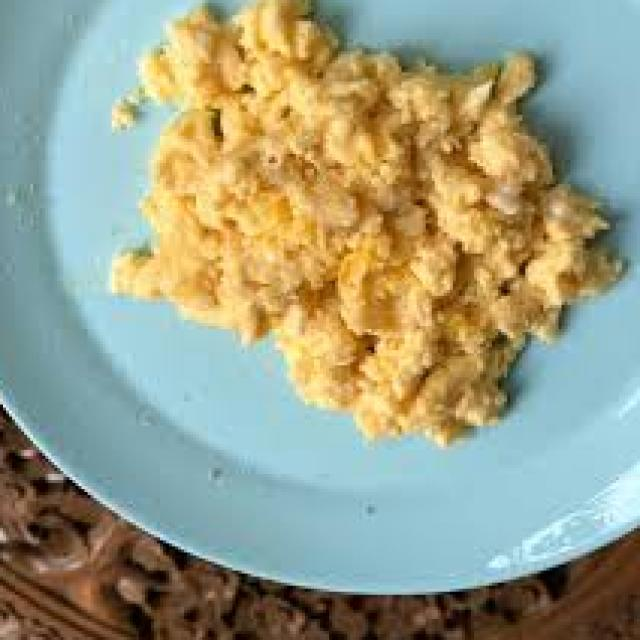telur_orak_arik: (130, 7, 606, 447)
